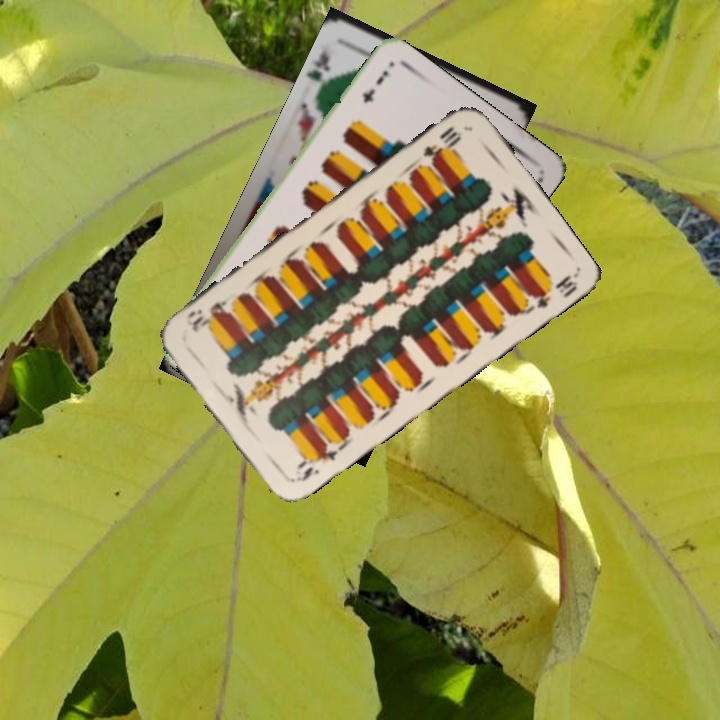E10: (288, 440, 341, 484), (419, 122, 465, 166)
E7: (358, 66, 391, 106)
GK: (304, 45, 335, 94)
